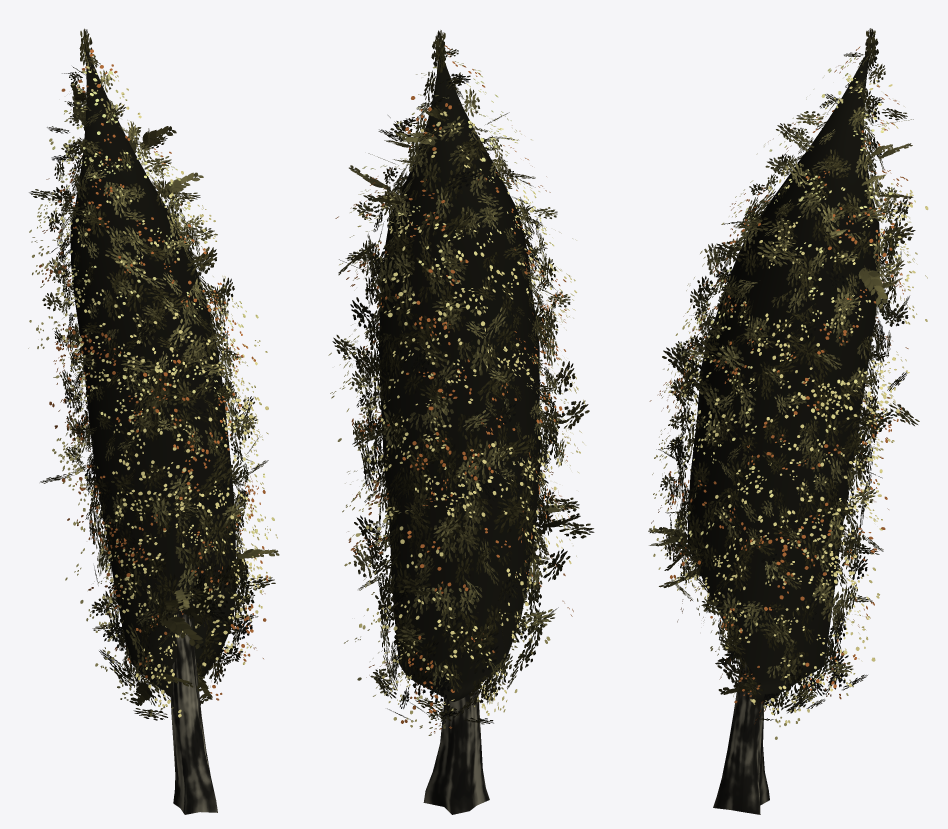
File: VerTree03.glb
3 renders of one model, left to right at view 1: azimuth 30°, elevation 25°; view 2: azimuth 150°, elevation 25°; view 3: azimuth 270°, elevation 25°, orthographic. The views are drawn at different scales.
Visible parts, largest first — view 1: VerTree03_leaves; view 2: VerTree03_leaves; view 3: VerTree03_leaves.
Part boxes in pixels (x1,y1,x2,y2): VerTree03_leaves: (28,28,279,814); VerTree03_leaves: (328,30,594,814); VerTree03_leaves: (648,28,928,814).
Bounding box in the file's own units: 3.18 × 11.04 × 3.91.
3 materials, 2 textured.
